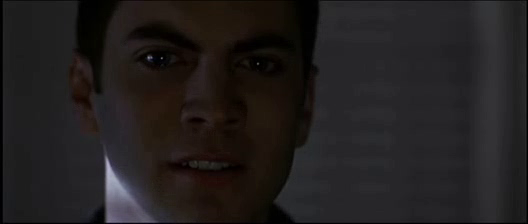ecu: (1, 1, 528, 224)
face: (105, 1, 309, 224)
person: (67, 1, 319, 224)
